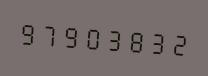eight: (122, 21, 142, 58)
nine: (17, 13, 37, 51), (59, 16, 79, 54)
seven: (38, 15, 58, 52)
three: (101, 19, 121, 57), (143, 22, 163, 60)
two: (164, 24, 184, 61)
zero: (80, 18, 100, 55)
